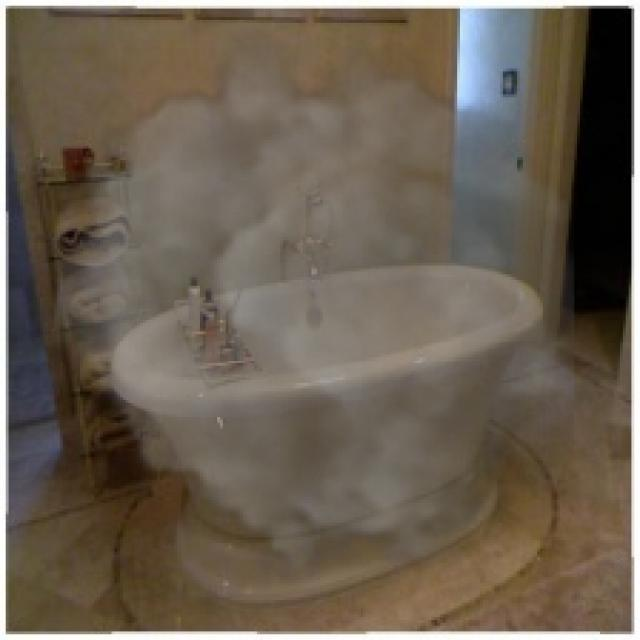Smoke: (54, 29, 574, 592)
